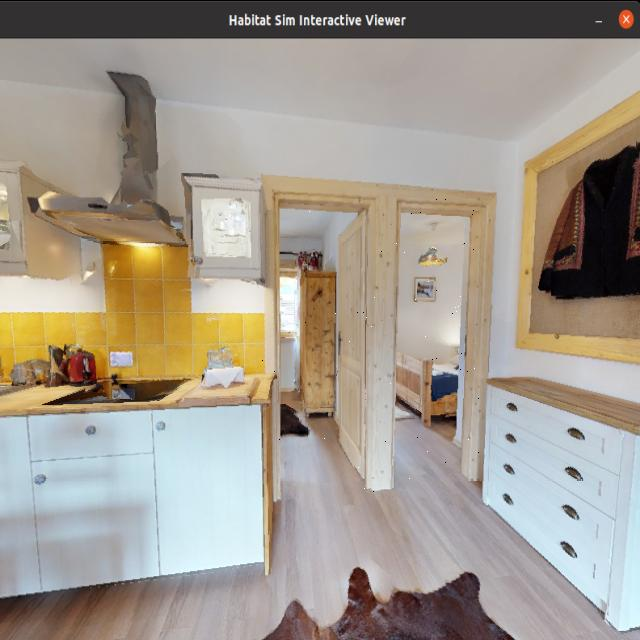door-frame: (261, 179, 382, 497), (379, 195, 483, 488)
